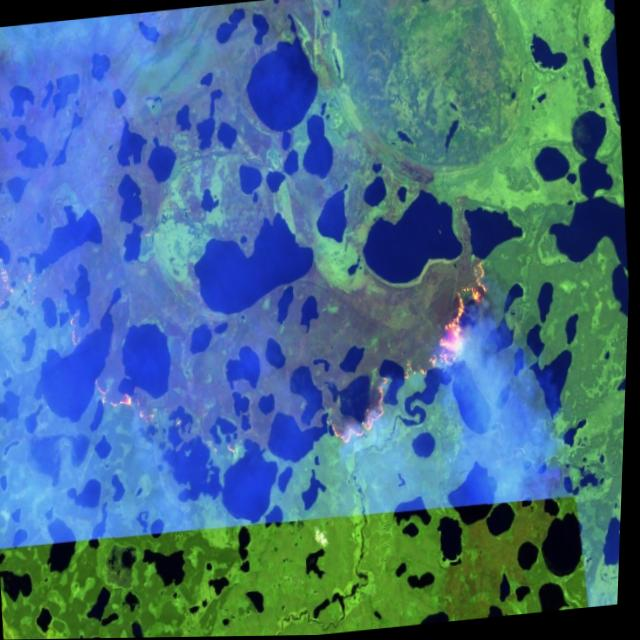fire: (308, 239, 514, 452), (0, 244, 94, 364), (86, 368, 175, 446)
